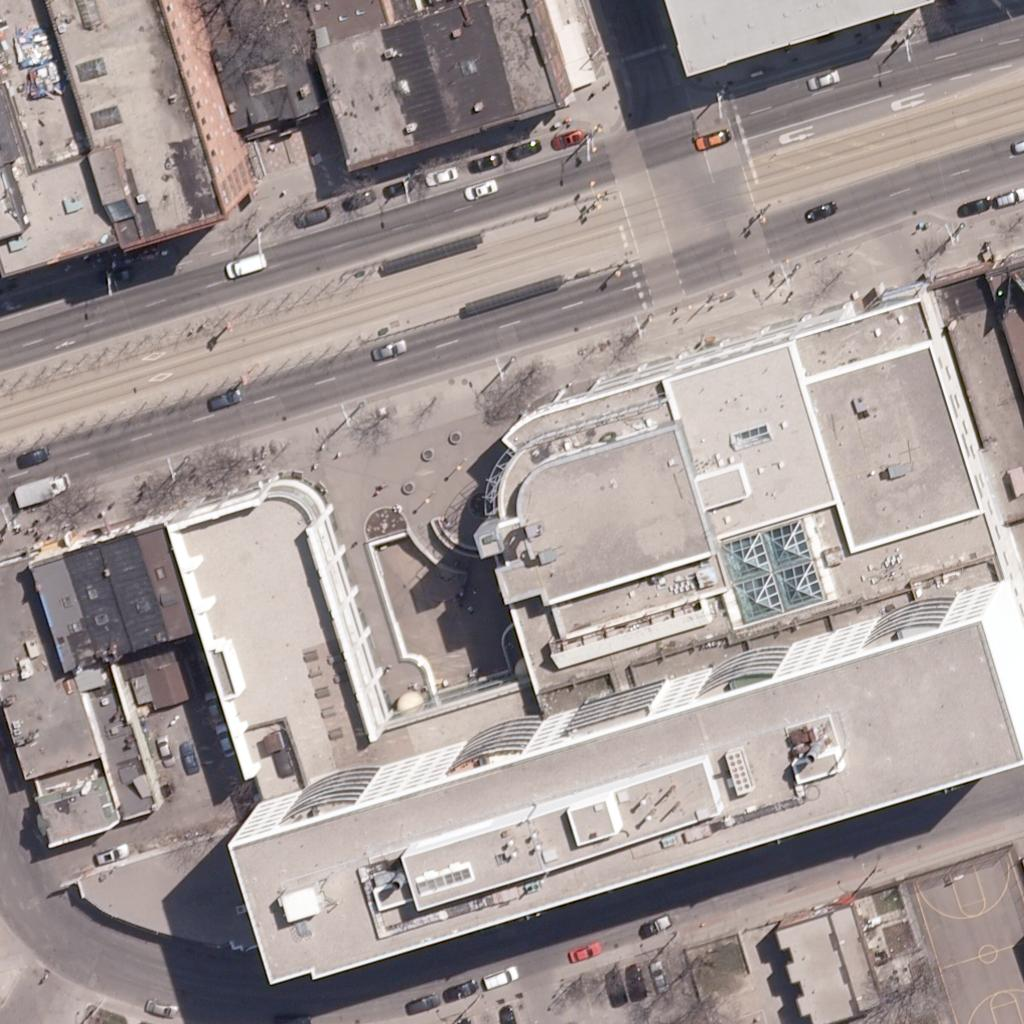car: (804, 60, 838, 94), (551, 121, 585, 155), (695, 122, 729, 156), (505, 133, 539, 167), (467, 146, 501, 180), (420, 160, 454, 194), (378, 171, 412, 205), (462, 172, 496, 206), (345, 178, 379, 212), (345, 179, 379, 213), (961, 186, 995, 220), (806, 191, 840, 225), (801, 195, 835, 229), (291, 198, 325, 232), (231, 248, 265, 282), (371, 331, 405, 365), (207, 381, 241, 415), (21, 438, 55, 472), (34, 470, 68, 504), (196, 691, 230, 725), (209, 727, 243, 761), (169, 731, 203, 765), (147, 737, 181, 771), (90, 837, 124, 871), (96, 838, 130, 872), (638, 906, 672, 940), (638, 907, 672, 941), (566, 936, 600, 970), (483, 957, 517, 991), (640, 959, 674, 993), (615, 965, 649, 999), (446, 973, 480, 1007), (594, 974, 628, 1008), (408, 984, 442, 1018), (148, 993, 182, 1024), (996, 180, 1024, 214), (492, 1004, 526, 1024)
